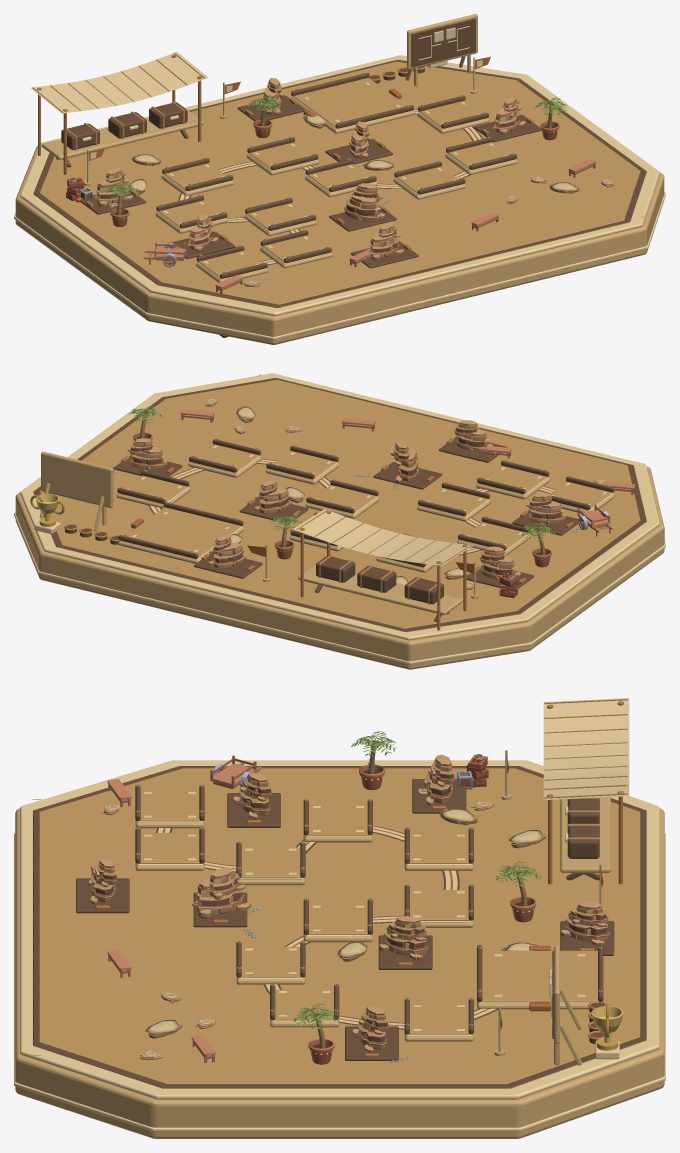
File: sahrun.glb
3 renders of one model, top to bottom at view 1: azimuth 30°, elevation 25°; view 2: azimuth 150°, elevation 25°; view 3: azimuth 270°, elevation 25°, orthographic. The views are drawn at different scales.
Parts seen in each view (by area): view 1: Static tournament table • material batches; view 2: Static tournament table • material batches; view 3: Static tournament table • material batches.
Part boxes in pixels (x1=…): Static tournament table • material batches: x1=14, y1=14, x2=665, y2=344; Static tournament table • material batches: x1=14, y1=373, x2=665, y2=669; Static tournament table • material batches: x1=14, y1=698, x2=665, y2=1138.
Bounding box in the file's own units: 24.1 × 5.11 × 19.38.
